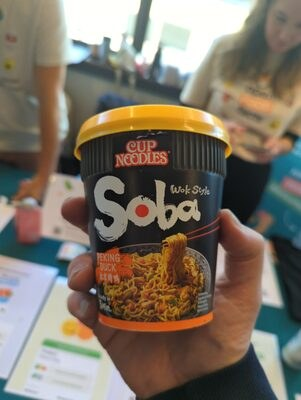Soba Peking Duck: (15, 20, 286, 380)
